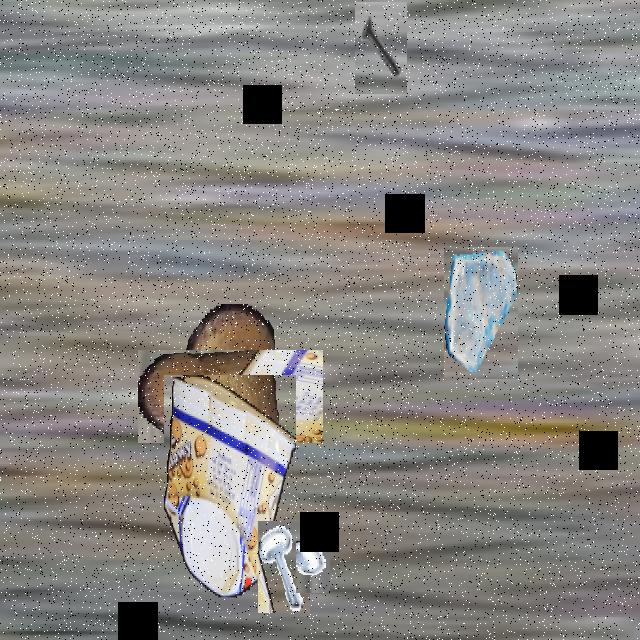glass: (444, 247, 518, 379)
metal: (248, 531, 320, 603), (355, 2, 407, 94)
plastic: (164, 375, 296, 596)
wood: (161, 327, 301, 466)
